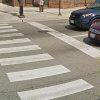Crosswalk: (3, 21, 77, 100)
